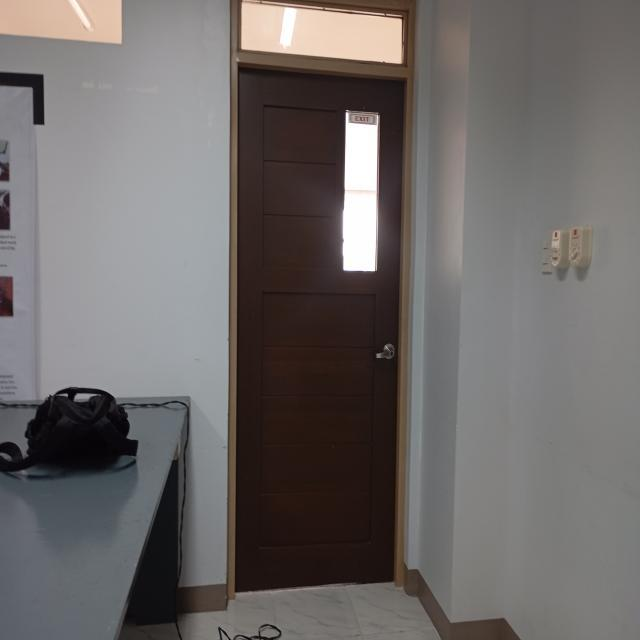door: (218, 0, 414, 613)
